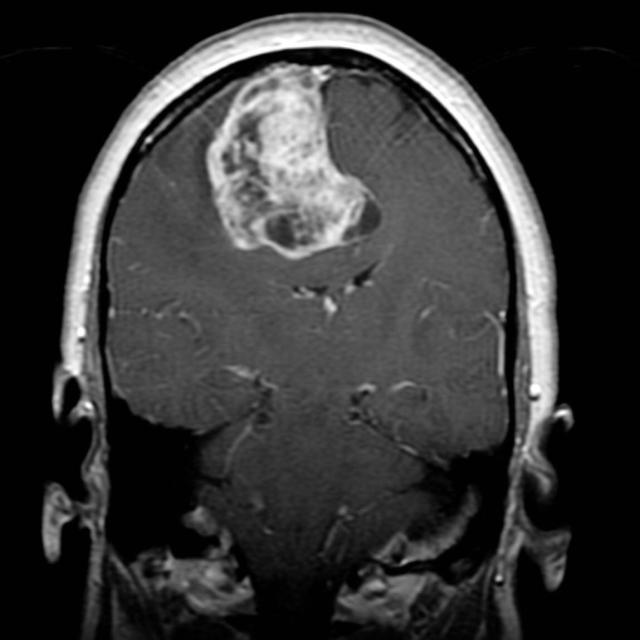Tumor: (202, 60, 383, 258)
